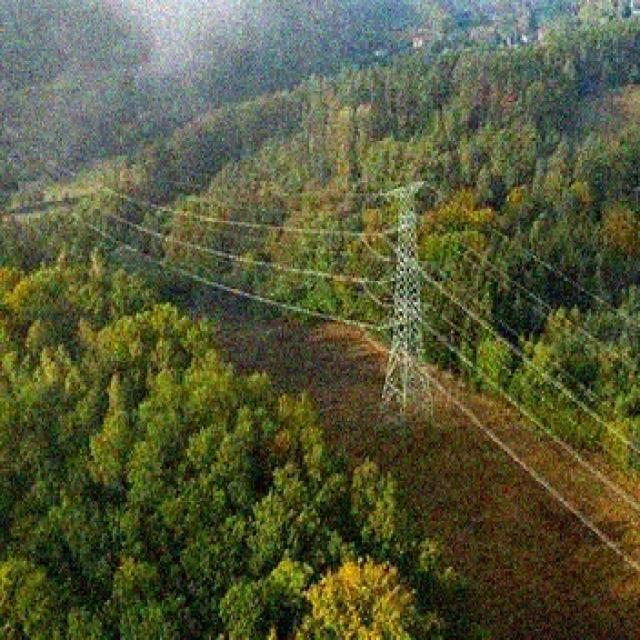utility poles: (367, 175, 458, 448)
